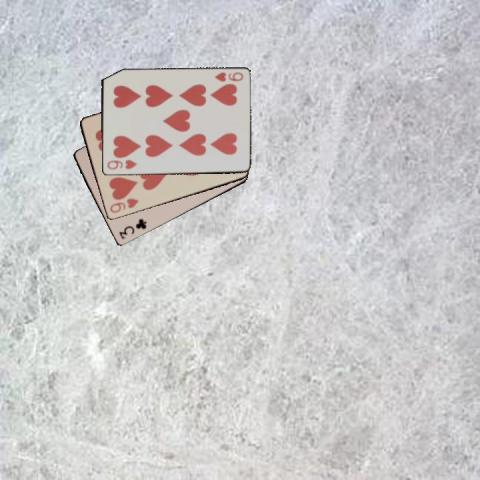3c: (116, 216, 148, 241)
9h: (107, 195, 140, 215), (104, 157, 138, 171), (211, 70, 245, 84)
